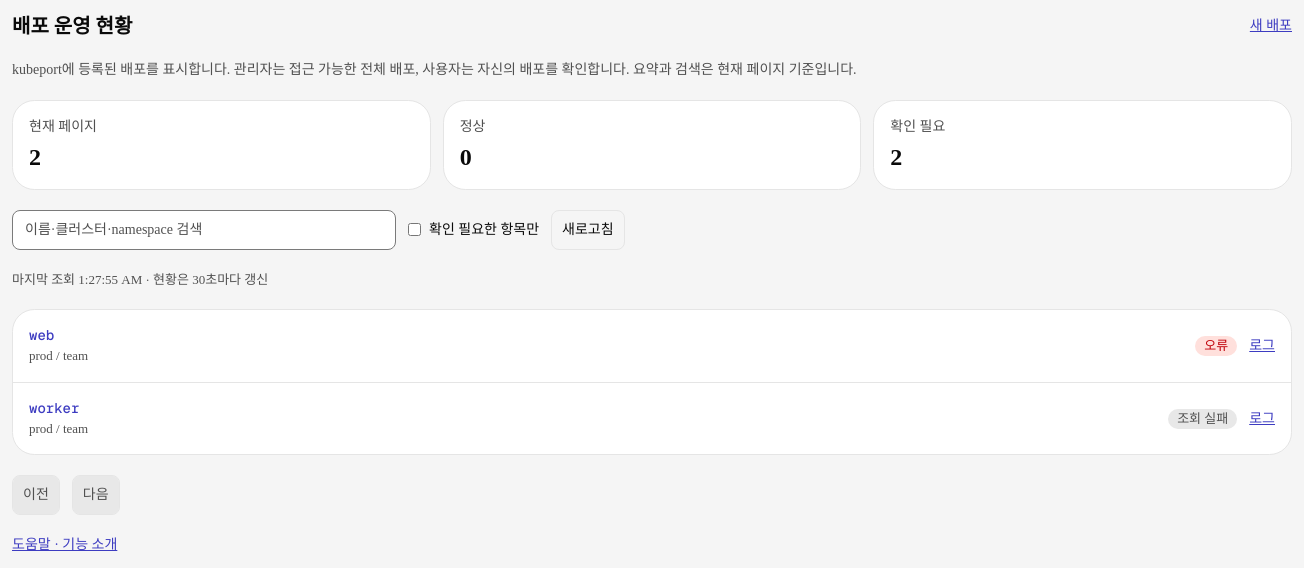
Test: operations dashboard › refreshes recovered workloads and keeps failed probes visible
Expected: the text "조회 실패" is shown, top-left (1168, 409), bottom-right (1237, 429)
Click the button "새로고침" at coordinates (588, 230), box top-left (551, 210), bottom-right (624, 250)
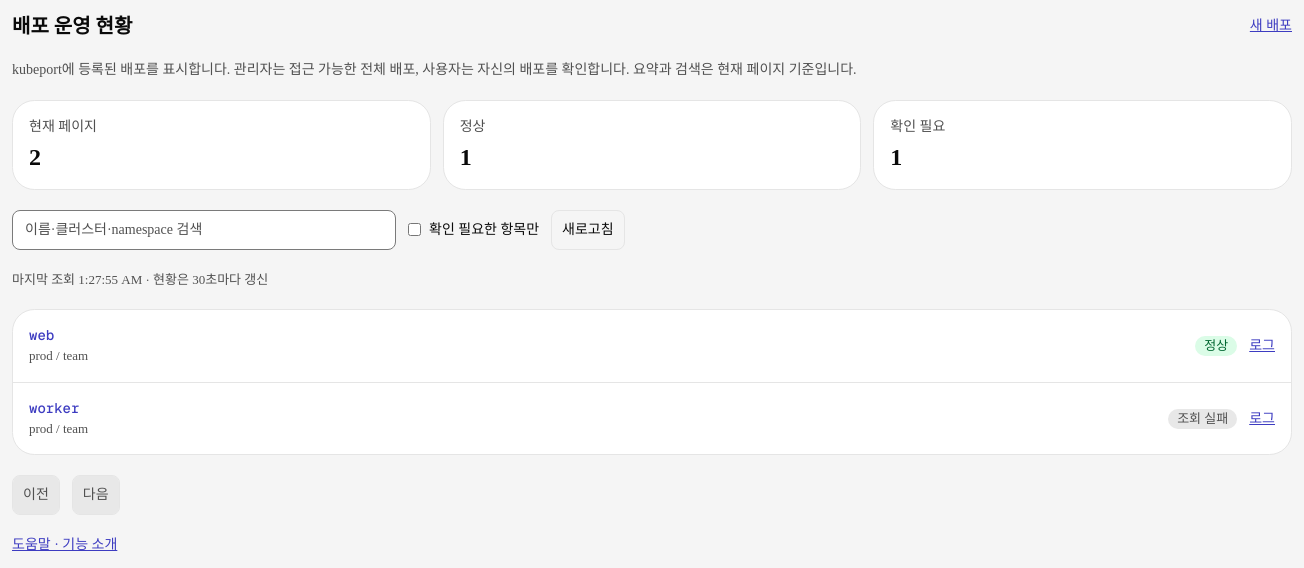
Expected: the list item "web" shows "정상", top-left (1204, 338), bottom-right (1228, 354)
Click the checkbox at coordinates (414, 230), box top-left (408, 224), bottom-right (421, 236)
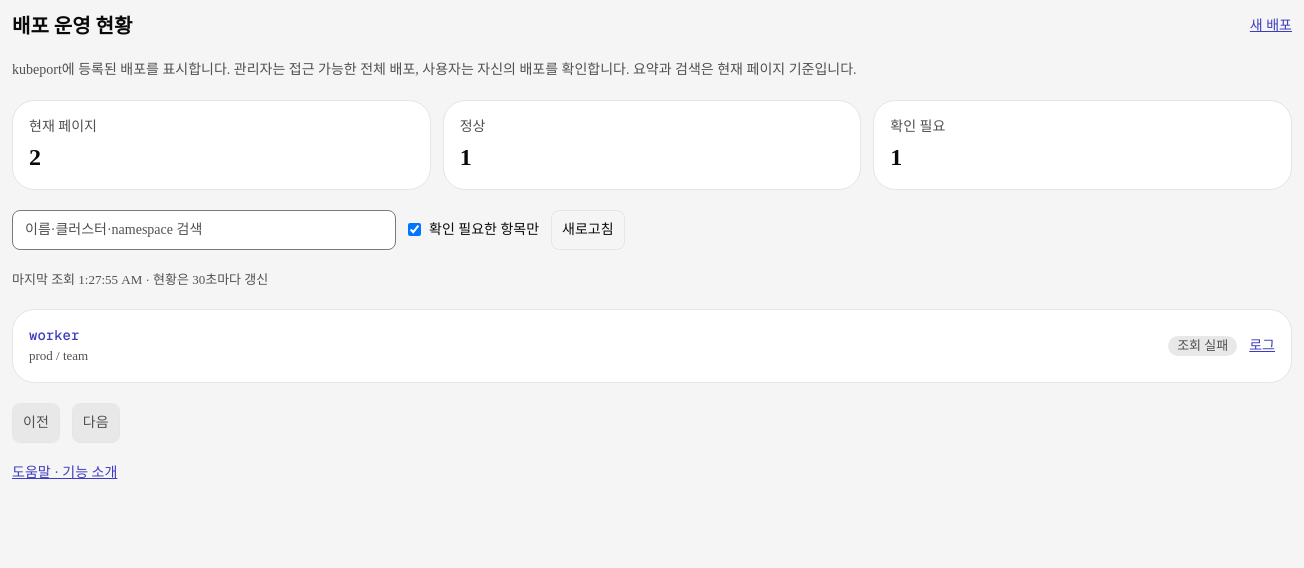
Expected: the link "worker" is shown, top-left (29, 326), bottom-right (79, 344)
Expected: the link "web" is gone
